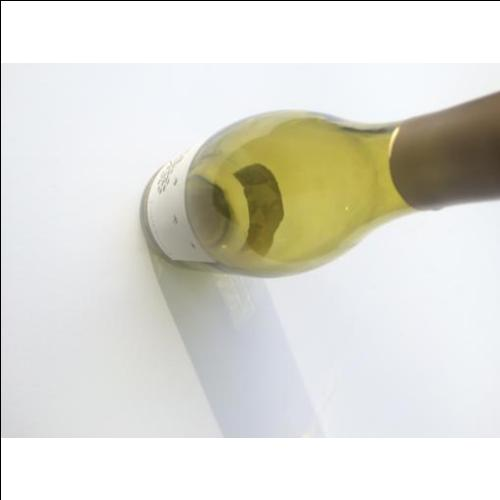glass: (145, 111, 499, 279)
